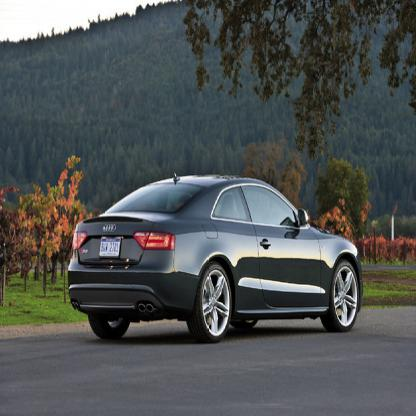Vehicle: (56, 149, 377, 366)
